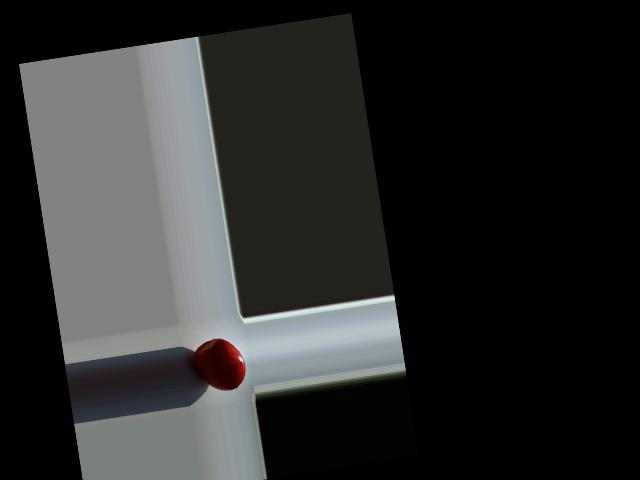tomato: (190, 335, 248, 395)
